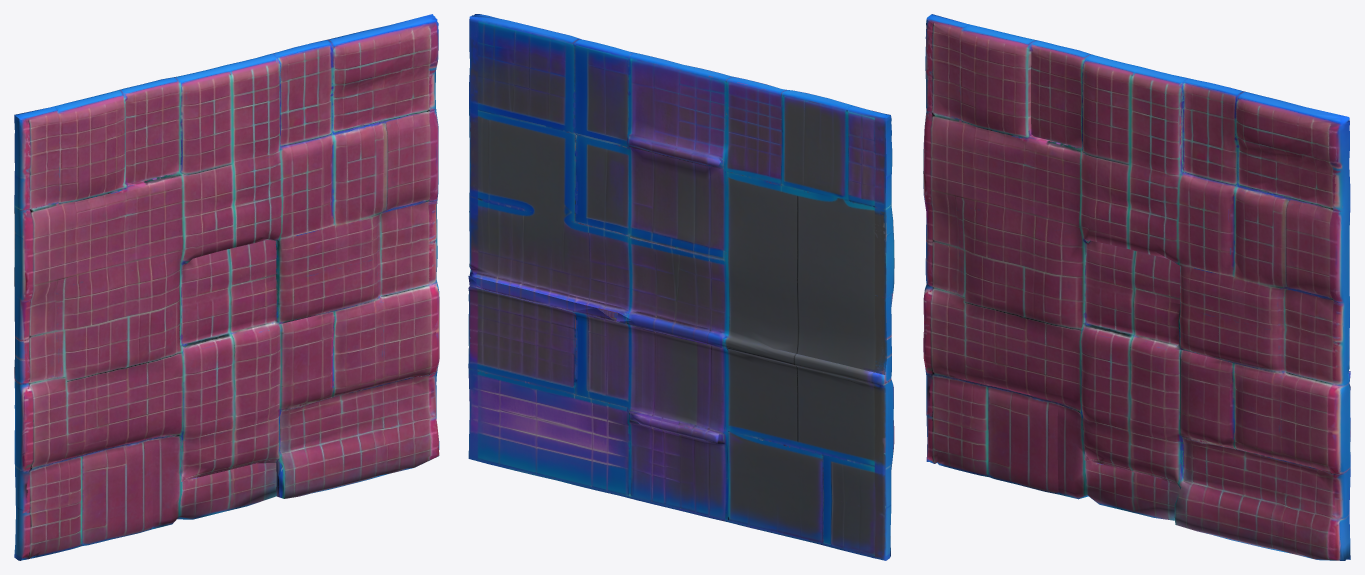
File: A_straight_wall_tile__0926184956_texture.fbx
The picture shows the model from 3 angles, left to right: view 1: azimuth 30°, elevation 25°; view 2: azimuth 150°, elevation 25°; view 3: azimuth 330°, elevation 25°; orthographic projection.
Visible parts, largest first — view 1: Mesh0; view 2: Mesh0; view 3: Mesh0.
Part boxes in pixels (x1=…): Mesh0: x1=14, y1=14, x2=439, y2=560; Mesh0: x1=468, y1=14, x2=894, y2=560; Mesh0: x1=923, y1=14, x2=1350, y2=560.
Size of the model in its own units: 189 by 191 by 13.89.
1 material, 1 textured.
